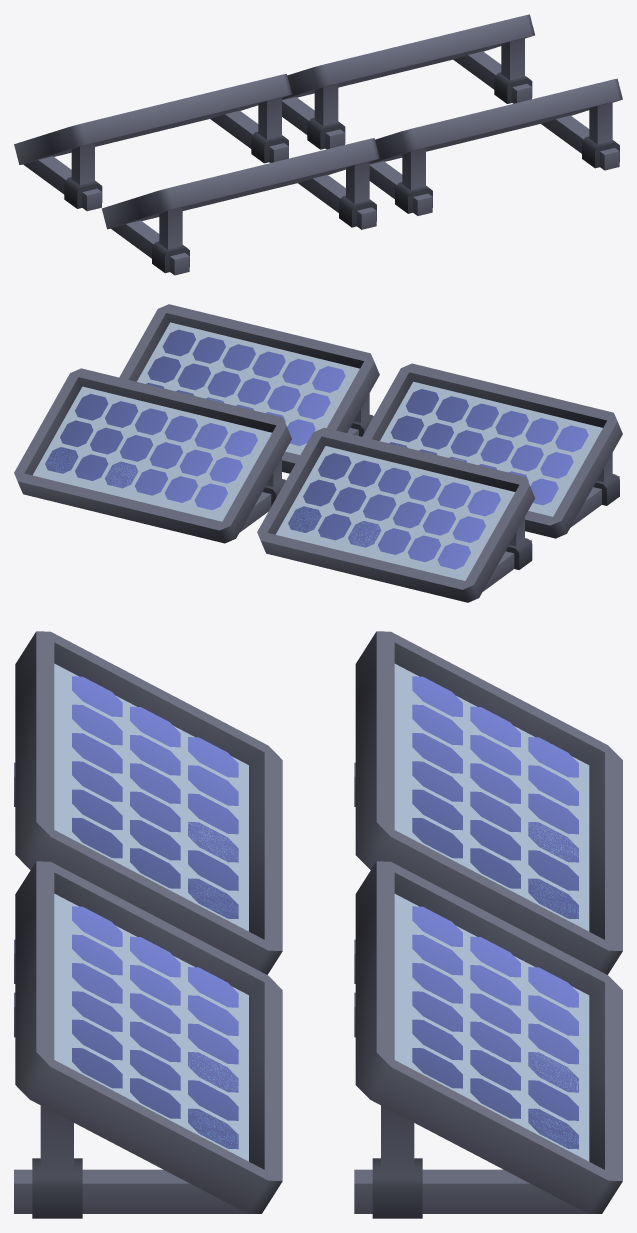
File: solar-panel-landscape-group.glb
3 renders of one model, top to bottom at view 1: azimuth 30°, elevation 25°; view 2: azimuth 150°, elevation 25°; view 3: azimuth 270°, elevation 25°, orthographic. The views are drawn at different scales.
Visible parts, largest first — view 1: solar-panel-landscape-group; view 2: solar-panel-landscape-group; view 3: solar-panel-landscape-group.
Part boxes in pixels (x1,y1,x2,y2): solar-panel-landscape-group: (14, 14, 622, 275); solar-panel-landscape-group: (14, 304, 622, 602); solar-panel-landscape-group: (14, 631, 622, 1218).
Size of the model in its own units: 1.51 by 0.2624 by 0.8951.
